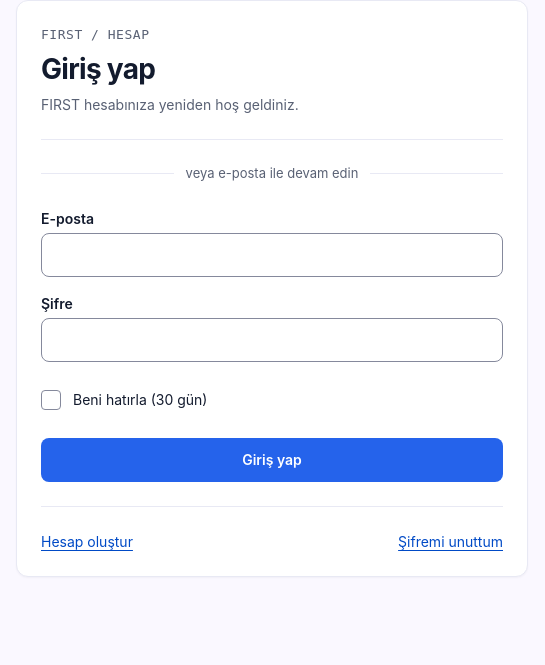
Test: normal auth forms › disables controls and prevents duplicate submission while pending
This screenshot has width=545, height=665.
In the field labelled "E-posta": point(272, 255) [41,233,503,277], type "member@example.test"
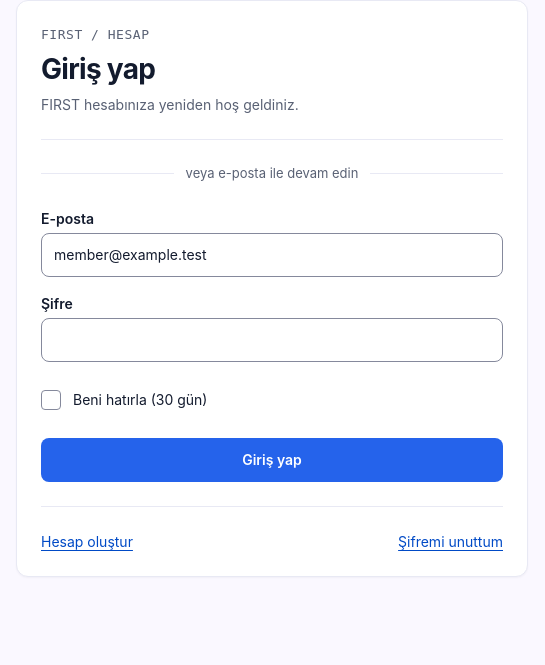
In the password field labelled "Şifre": point(272, 340) [41,318,503,362], type "Türkçe42!"
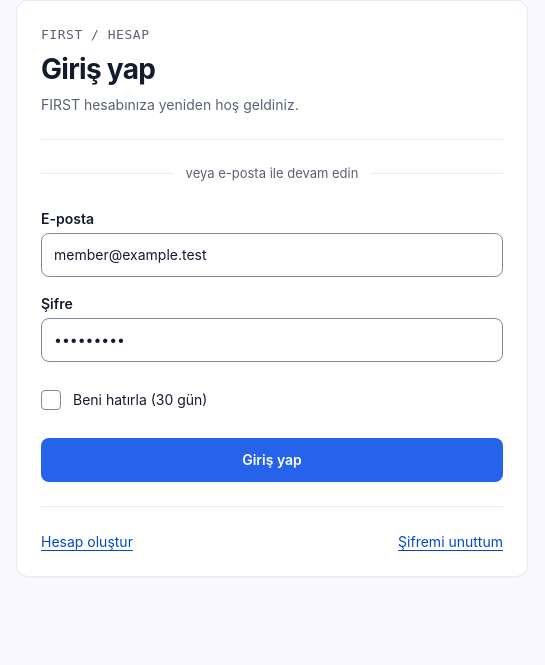
Submit the form "Giriş yap", box [41,208,503,482]
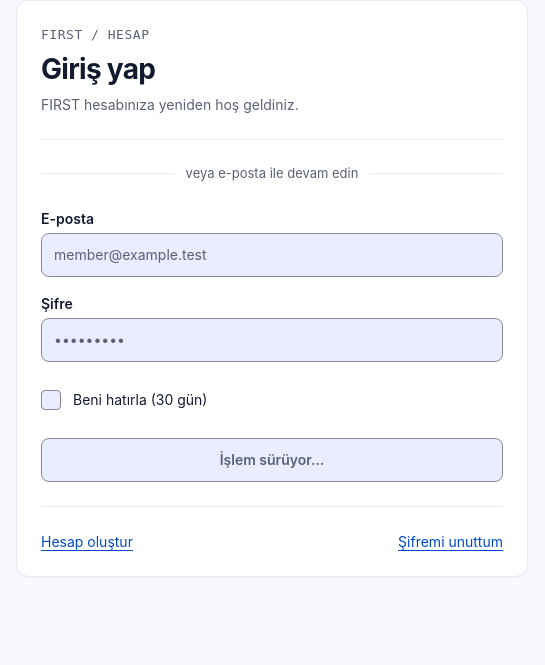
Result: the button is disabled at [41,438,503,482]
Submit the form named "Giriş yap", box [41,208,503,482]
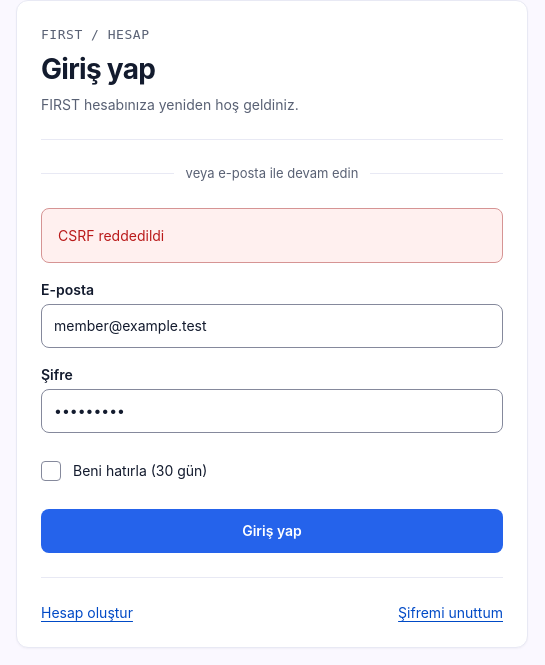
Result: the message "CSRF reddedildi" is shown at [41,208,503,263]
